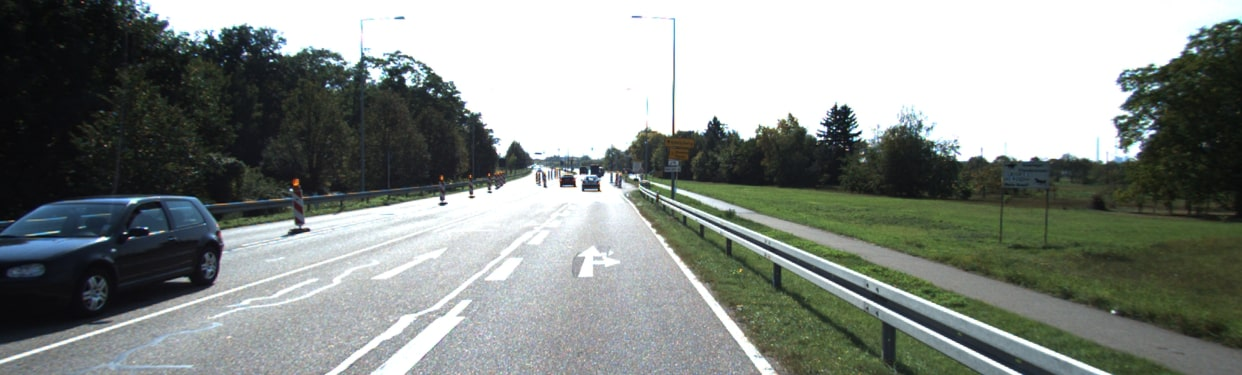car: (6, 190, 225, 325), (580, 173, 600, 192), (558, 173, 577, 188)
